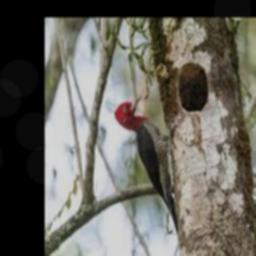Woodpecker: (115, 91, 179, 234)
